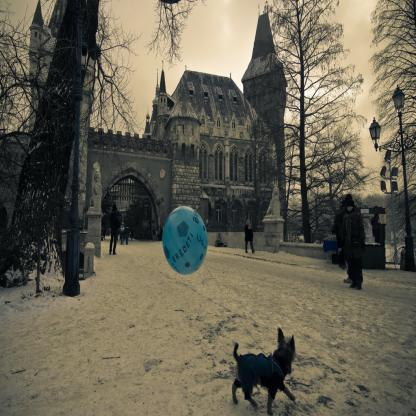Ball: (162, 206, 206, 274)
